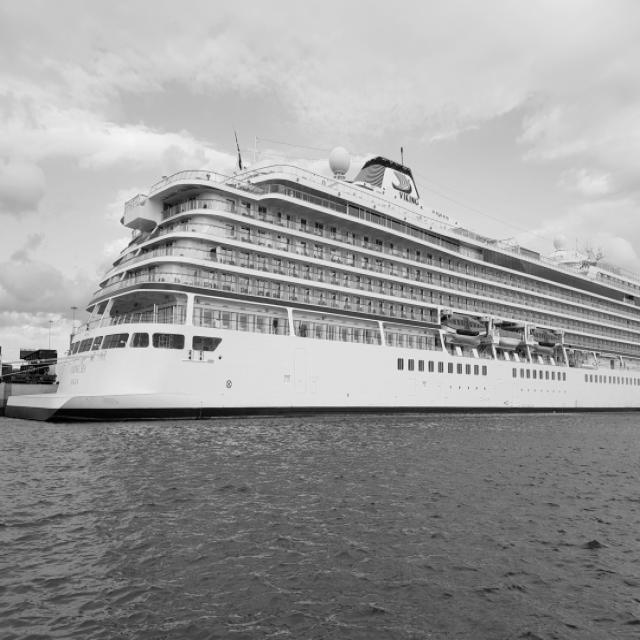cruises: (5, 144, 640, 429)
